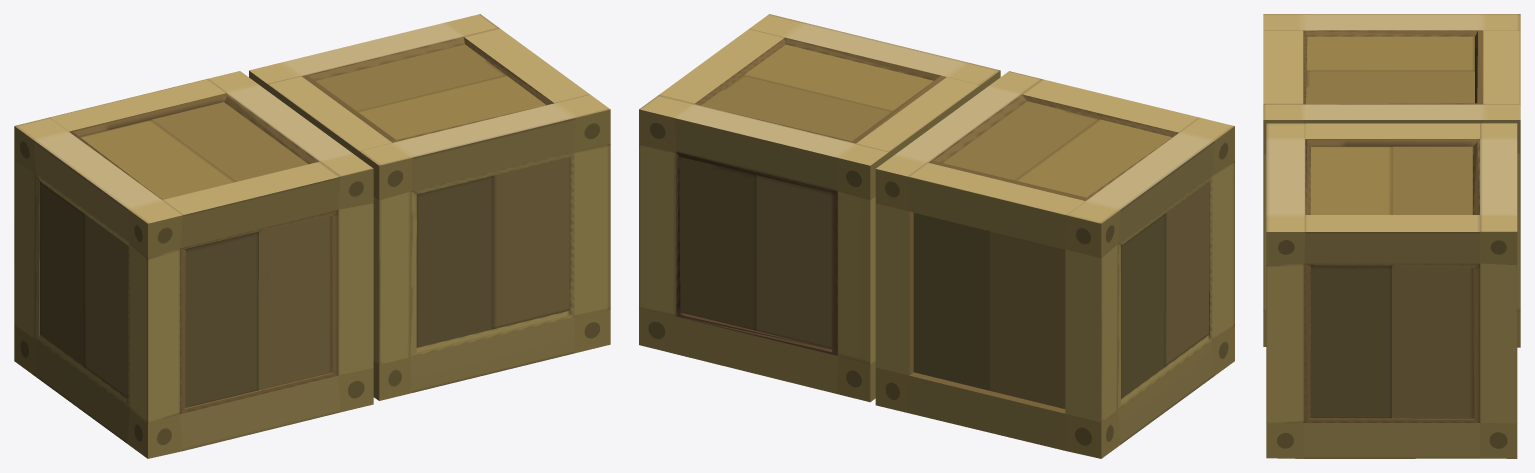
File: Wooden_box.fbx
3 views of the same model, side by side, from view 1: azimuth 30°, elevation 25°; view 2: azimuth 150°, elevation 25°; view 3: azimuth 270°, elevation 25° (orthographic). The views are drawn at different scales.
Parts seen in each view (by area): view 1: Wooden box 1, Wooden box 2; view 2: Wooden box 1, Wooden box 2; view 3: Wooden box 2, Wooden box 1.
Boxes of the visible parts, <box> form: Wooden box 1: <box>14,71,373,458</box>; Wooden box 2: <box>249,14,610,400</box>; Wooden box 1: <box>875,71,1234,458</box>; Wooden box 2: <box>639,14,1000,402</box>; Wooden box 2: <box>1266,123,1517,458</box>; Wooden box 1: <box>1263,14,1520,347</box>.
Size of the model in its own units: 68.95 by 33.74 by 34.37.
